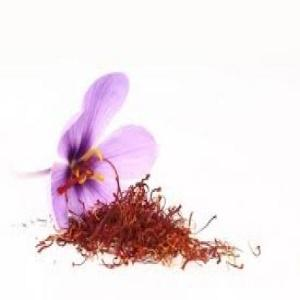Saffron: (48, 70, 156, 236)
